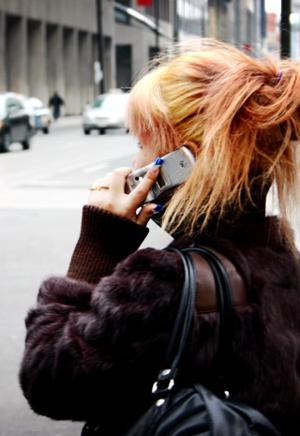person: (18, 42, 300, 436)
